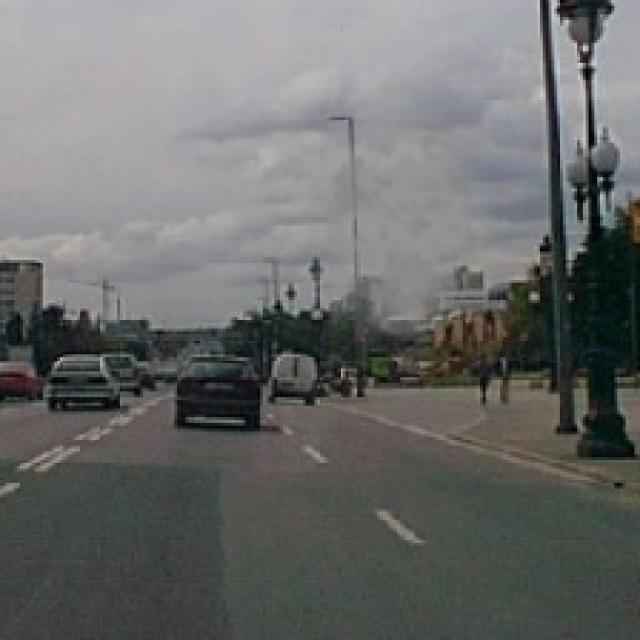Smoke: (280, 108, 497, 363)
